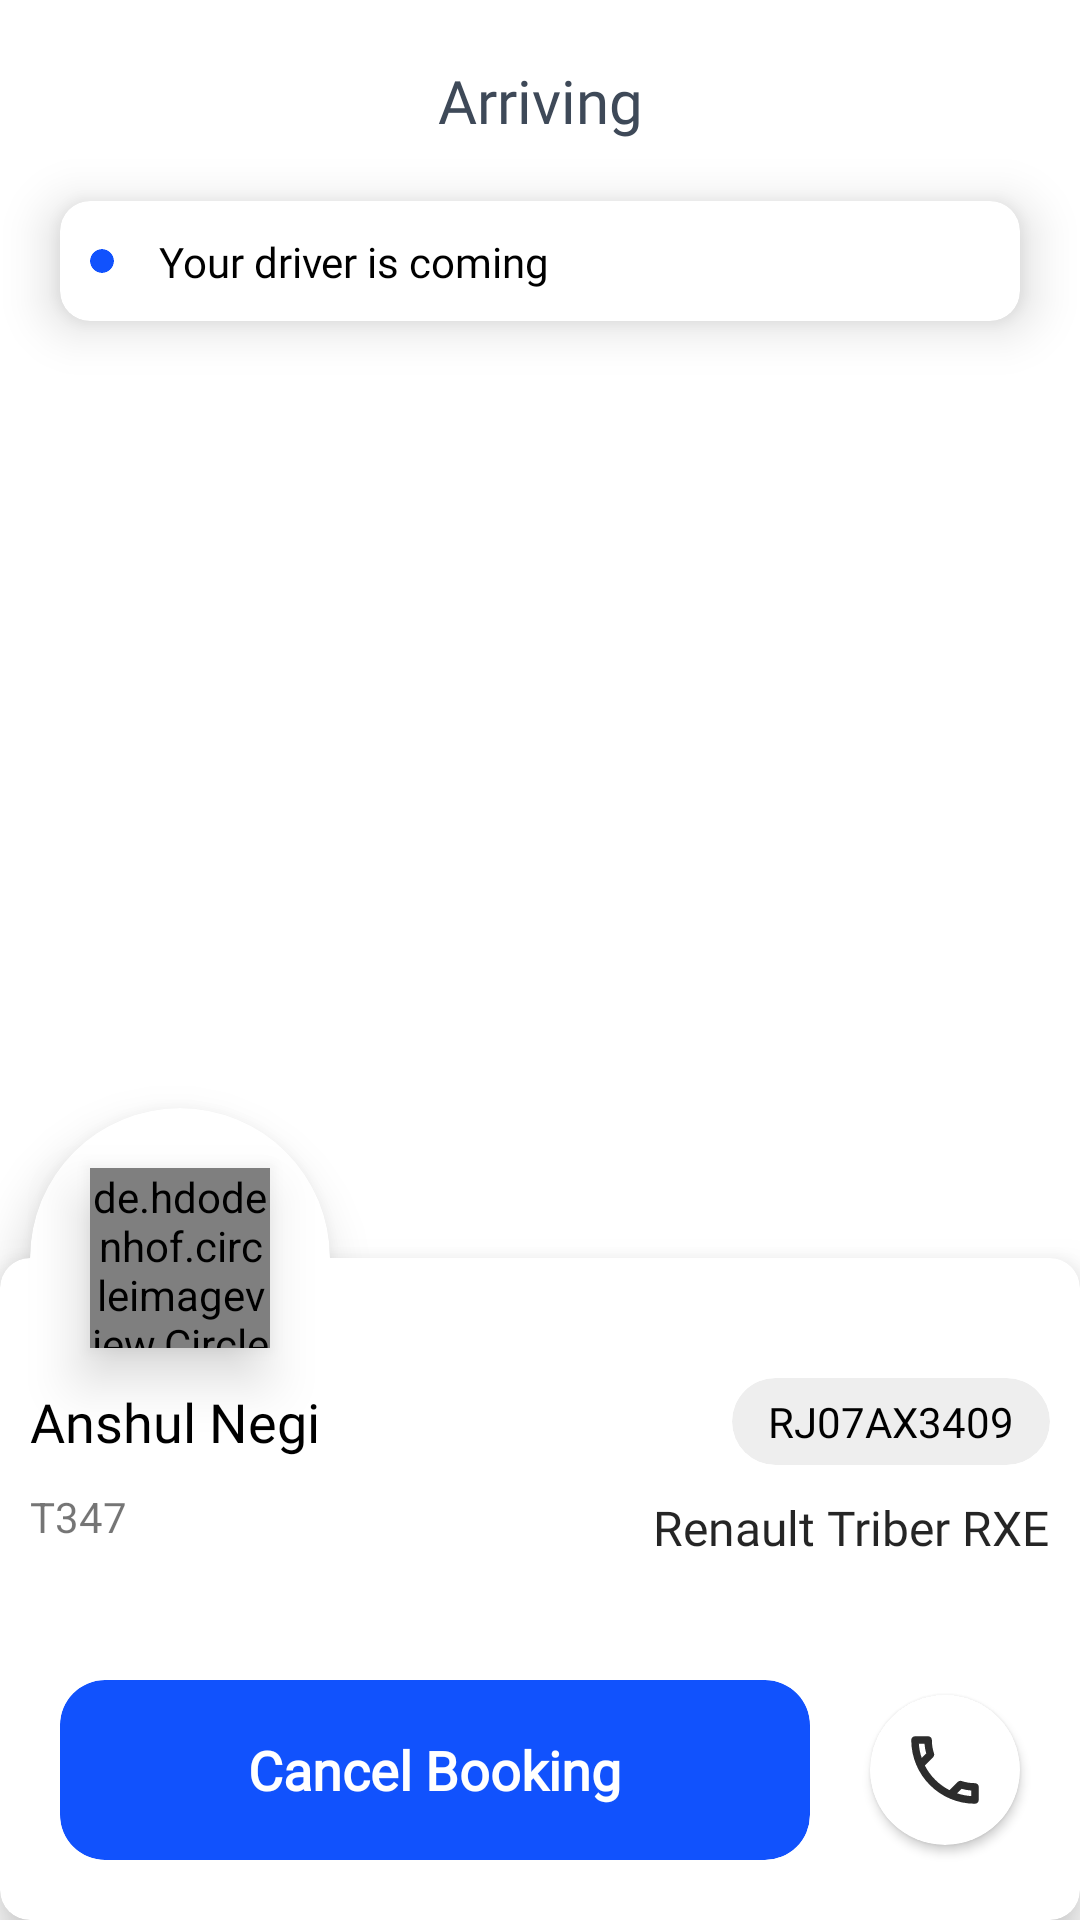

Named icons in this screenshot (1080w x 1920h) and their bounding boxes, [left=x1, top=y1, right=x2, bottom=y2]:
call: [left=911, top=1736, right=979, bottom=1804]
